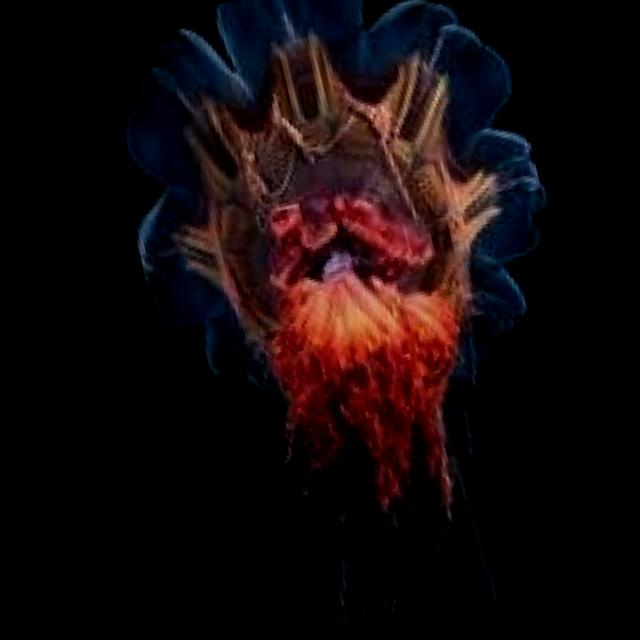Human: (53, 0, 635, 638)
